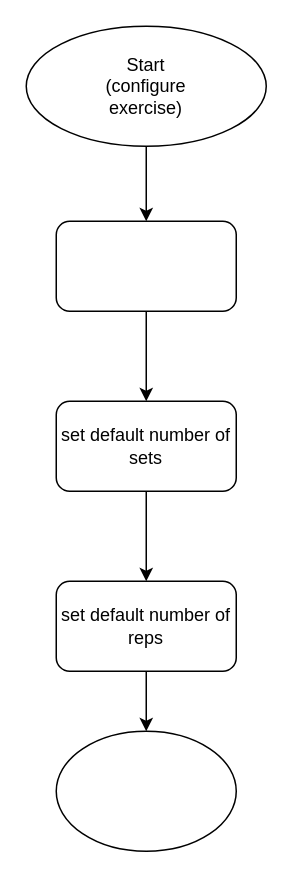
This 293x878 diagram has some shape labels left out. The shapes that lost their labels are listed below. From the top down, each one's box as (x1, y1, x2, y2) in pixels, then its label:
(55, 220, 236, 311): set default weight
(55, 730, 236, 851): Stop
